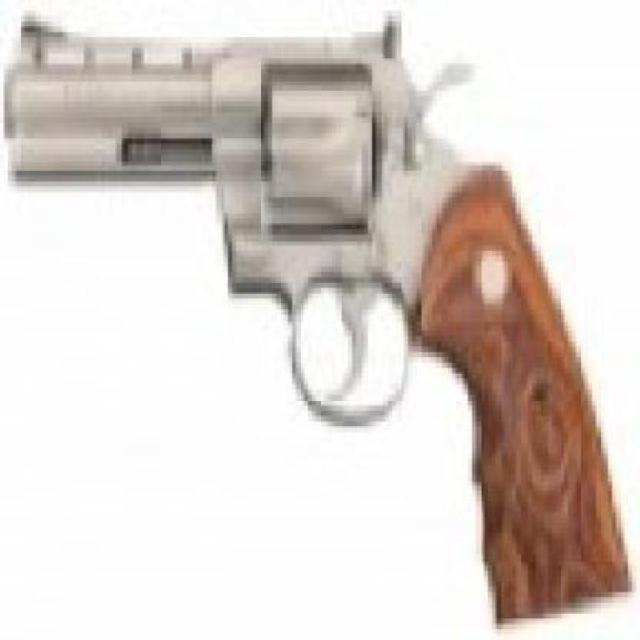gun: (8, 21, 632, 630)
